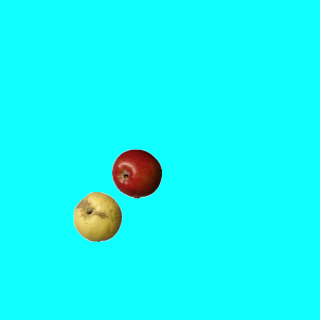Apple Braeburn: (111, 148, 161, 198)
Apple Golden 1: (72, 191, 122, 241)
